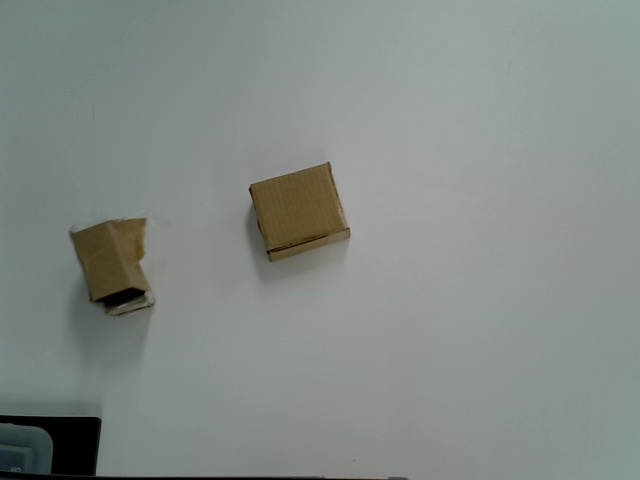defect: (68, 209, 162, 319)
normal: (249, 162, 352, 262)
